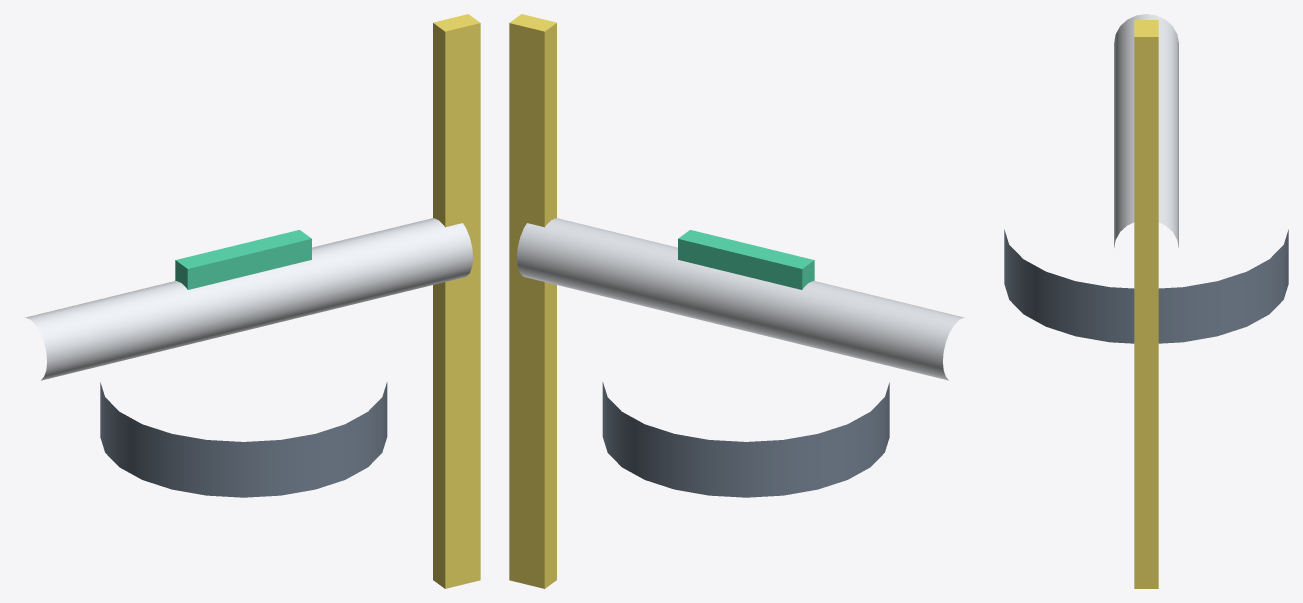
File: dumpy_level_rise_fall_levelling.glb
The picture shows the model from 3 angles, left to right: view 1: azimuth 30°, elevation 25°; view 2: azimuth 150°, elevation 25°; view 3: azimuth 270°, elevation 25°; orthographic projection.
Parts seen in each view (by area): view 1: DumpyLevelTelescopeTube, LevellingStaffMetricBar, TribrachLevelingFootscrews, LongitudinalSpiritBubbleTube; view 2: DumpyLevelTelescopeTube, LevellingStaffMetricBar, TribrachLevelingFootscrews, LongitudinalSpiritBubbleTube; view 3: TribrachLevelingFootscrews, LevellingStaffMetricBar, DumpyLevelTelescopeTube.
Boxes of the visible parts, bbox=[...] form: DumpyLevelTelescopeTube: bbox=[24, 218, 472, 380]; LevellingStaffMetricBar: bbox=[433, 14, 480, 588]; TribrachLevelingFootscrews: bbox=[100, 382, 387, 497]; LongitudinalSpiritBubbleTube: bbox=[175, 230, 311, 289]; DumpyLevelTelescopeTube: bbox=[517, 218, 965, 380]; LevellingStaffMetricBar: bbox=[509, 14, 556, 588]; TribrachLevelingFootscrews: bbox=[602, 382, 889, 497]; LongitudinalSpiritBubbleTube: bbox=[678, 230, 814, 289]; TribrachLevelingFootscrews: bbox=[1004, 229, 1288, 343]; LevellingStaffMetricBar: bbox=[1134, 20, 1158, 588]; DumpyLevelTelescopeTube: bbox=[1114, 14, 1178, 247].
Size of the model in its own units: 1.25 by 1.5 by 0.7.
